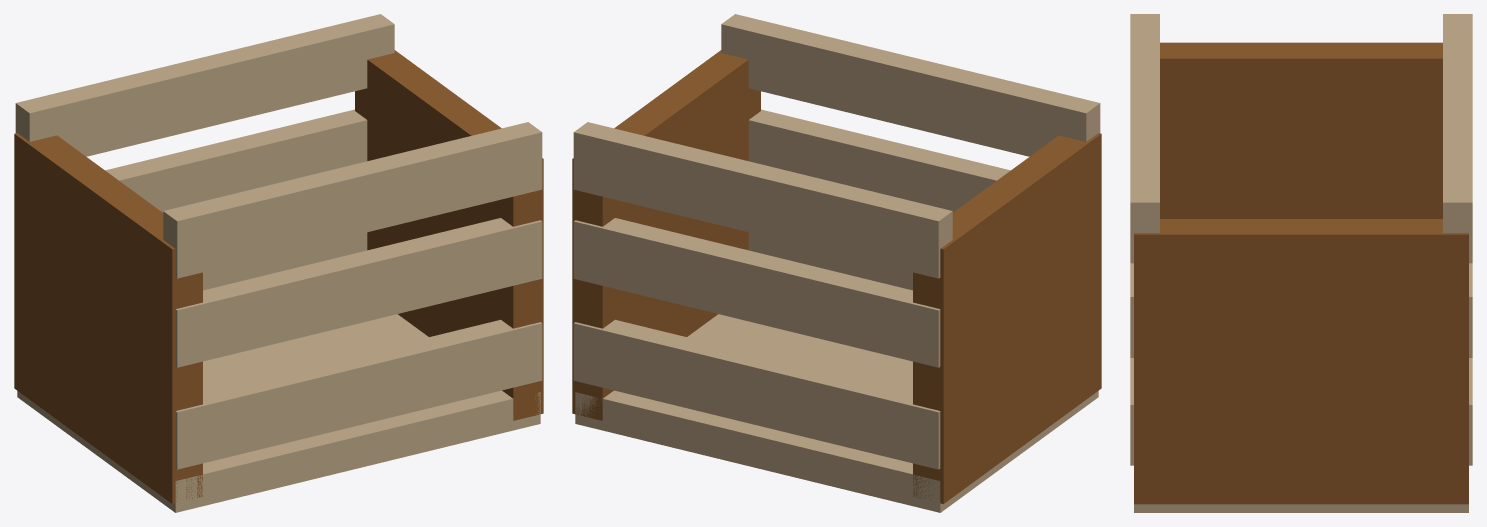
The model's file is crate.glb.
The picture shows the model from 3 angles, left to right: view 1: azimuth 30°, elevation 25°; view 2: azimuth 150°, elevation 25°; view 3: azimuth 270°, elevation 25°; orthographic projection. The views are drawn at different scales.
Visible parts, largest first — view 1: crate_mesh; view 2: crate_mesh; view 3: crate_mesh.
Boxes of the visible parts, bbox=[...] form: crate_mesh: bbox=[14, 14, 543, 512]; crate_mesh: bbox=[572, 14, 1101, 512]; crate_mesh: bbox=[1130, 14, 1472, 512].
Bounding box in the file's own units: 0.61 × 0.46 × 0.46.
